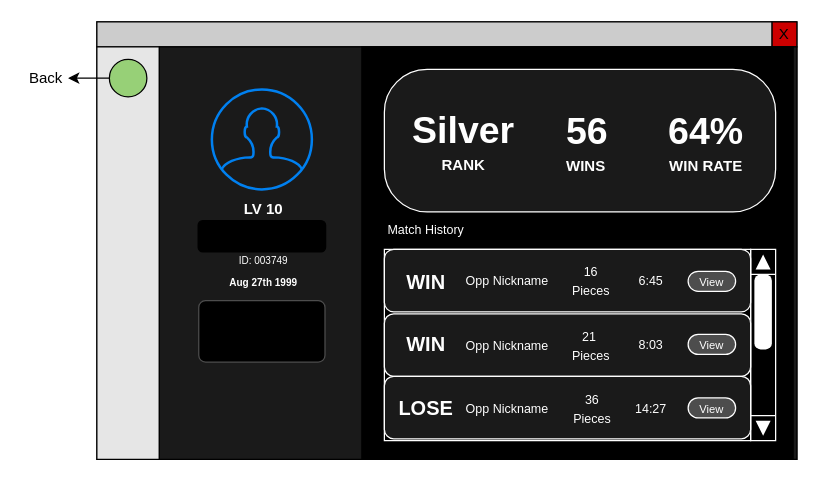
This 820x481 diagram has some shape labels left out. The box of each missing label's shape, as (x1, y1, x2, y2) in pixels:
Click to edit signature ...: (198, 299, 325, 362)
Player Nickname: (197, 219, 326, 252)
